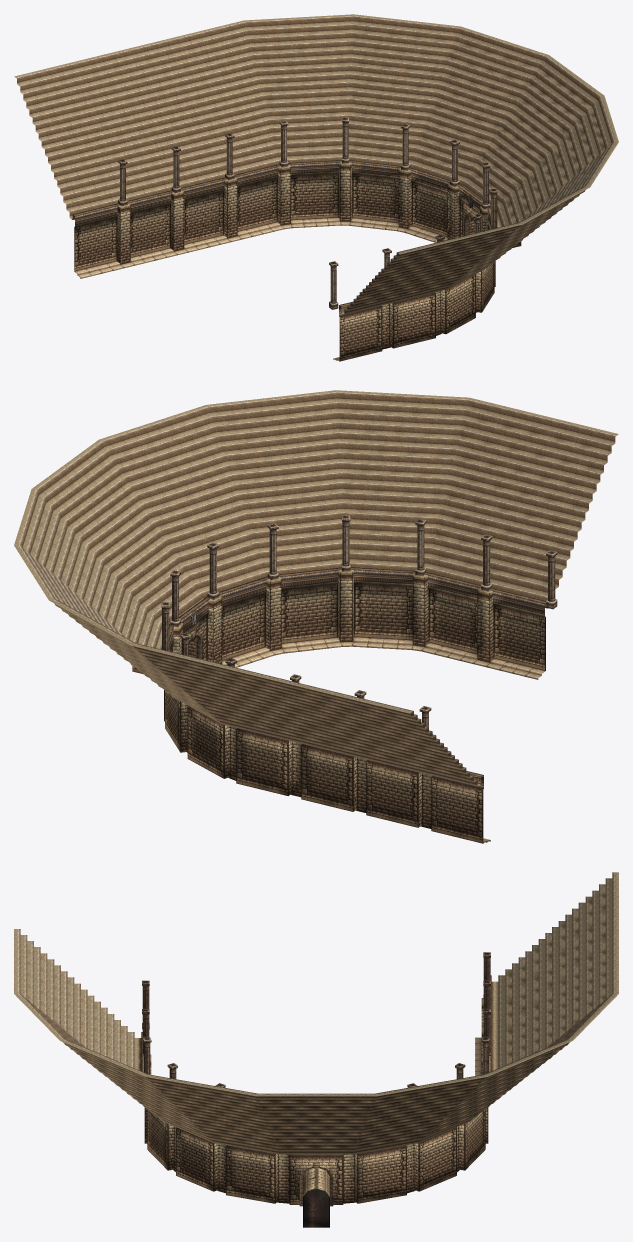
The model's file is ObjMD_Coliseum_In.FBX.
3 renders of one model, top to bottom at view 1: azimuth 30°, elevation 25°; view 2: azimuth 150°, elevation 25°; view 3: azimuth 270°, elevation 25°, orthographic. The views are drawn at different scales.
Visible parts, largest first — view 1: ObjMD_Coliseum_In; view 2: ObjMD_Coliseum_In; view 3: ObjMD_Coliseum_In.
Boxes of the visible parts, x1=… form: ObjMD_Coliseum_In: x1=14, y1=14, x2=618, y2=361; ObjMD_Coliseum_In: x1=14, y1=390, x2=618, y2=843; ObjMD_Coliseum_In: x1=14, y1=872, x2=618, y2=1227.
Bounding box in the file's own units: 3959 × 1375 × 4518.
